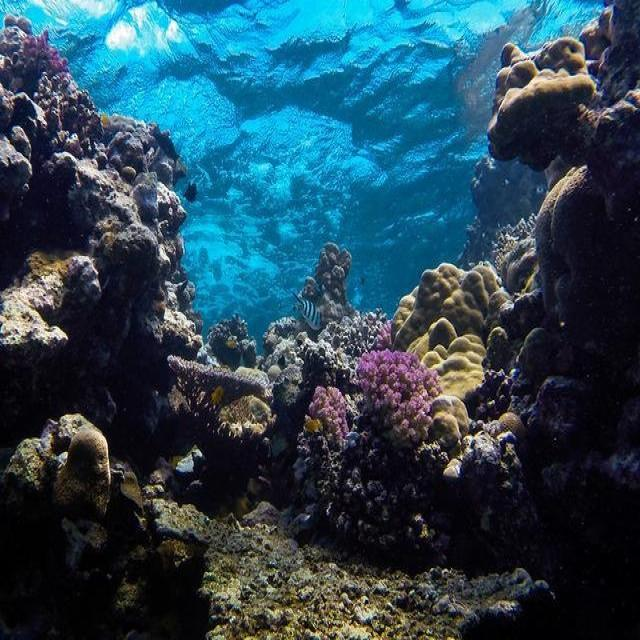fish: (291, 289, 321, 329)
reefs: (390, 260, 514, 438), (487, 36, 599, 174), (354, 320, 440, 452), (305, 387, 354, 459)
